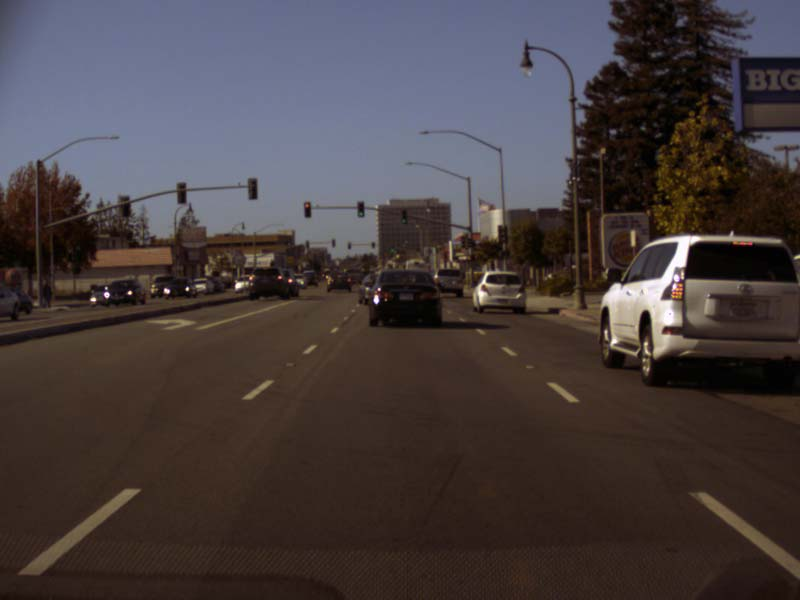Green: (357, 201, 364, 217), (400, 208, 406, 223)
Red: (303, 201, 311, 218)
